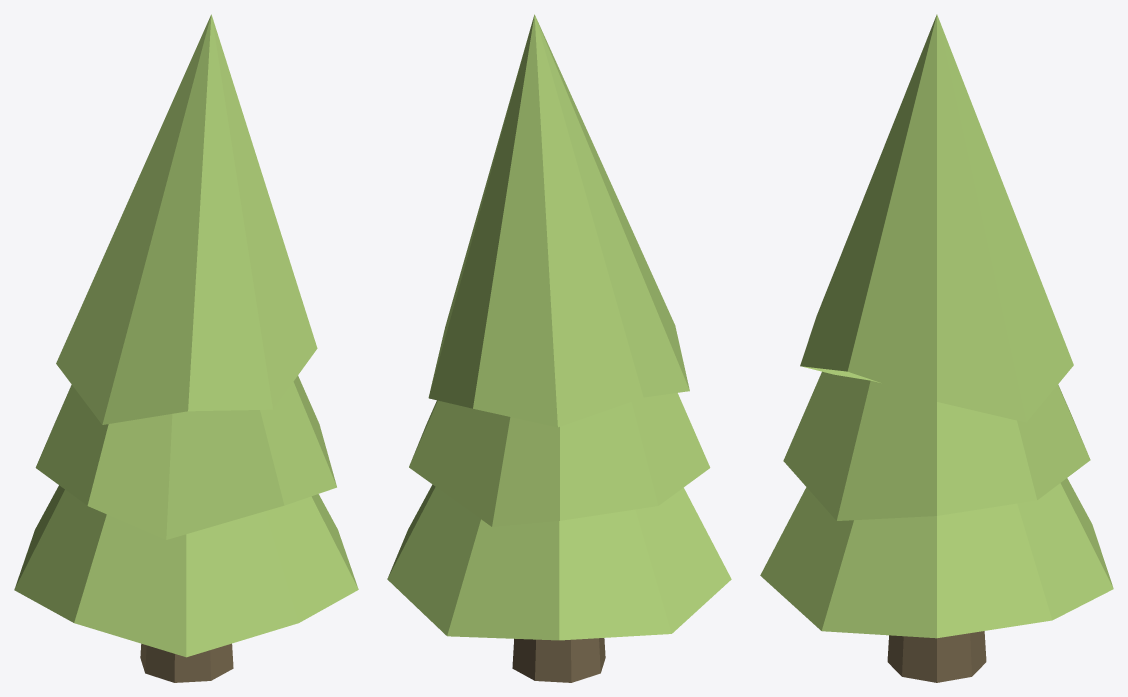
The model's file is GameJam_Tree3.fbx.
The picture shows the model from 3 angles, left to right: view 1: azimuth 30°, elevation 25°; view 2: azimuth 150°, elevation 25°; view 3: azimuth 270°, elevation 25°; orthographic projection. The views are drawn at different scales.
Parts seen in each view (by area): view 1: TreeShape3; view 2: TreeShape3; view 3: TreeShape3.
Boxes of the visible parts, box(x1,y1,x2,y2) form: TreeShape3: box(14, 14, 358, 682); TreeShape3: box(387, 14, 731, 682); TreeShape3: box(760, 14, 1113, 682).
Bounding box in the file's own units: 2.77 × 5.79 × 2.81.
